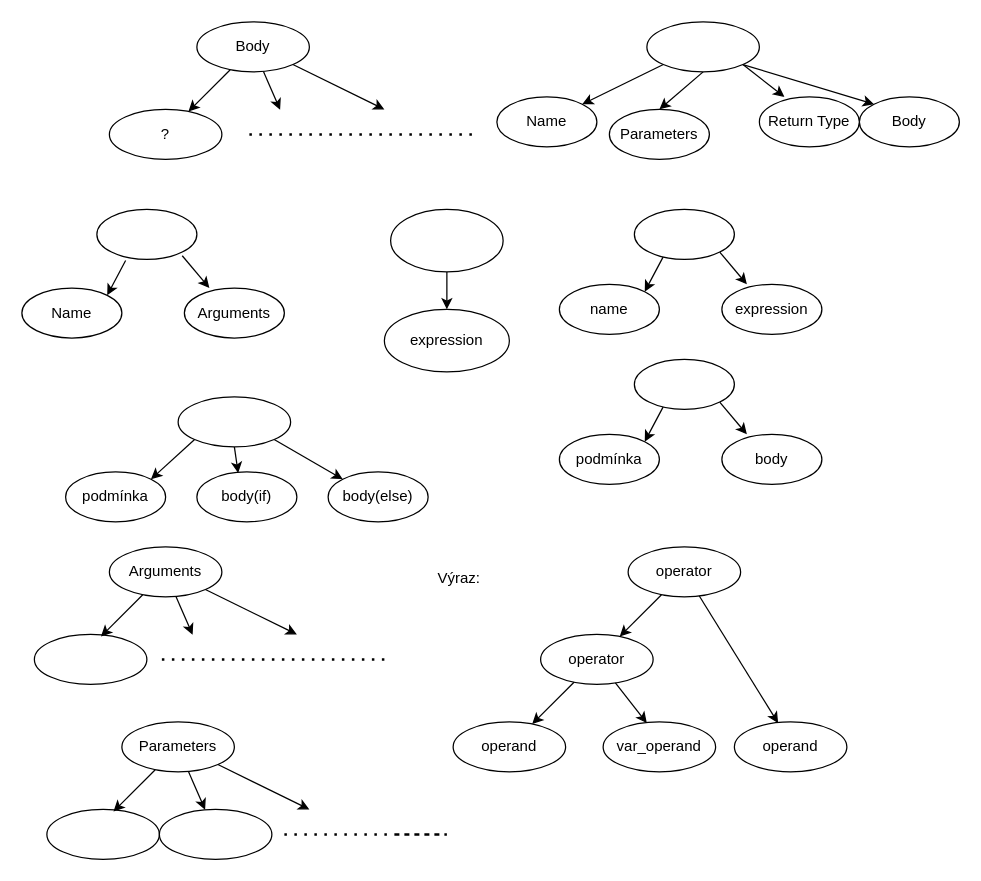
Image size: 981x881. Some labels were removed from this diagram. Each missing label, with the box of its shape:
assign / first_assign: (633, 208, 734, 259)
Function Call: (96, 208, 197, 259)
Function Declaration: (646, 21, 759, 72)
if: (177, 396, 291, 447)
int_parameter: (158, 808, 272, 859)
return: (389, 208, 503, 272)
str_parameter: (46, 808, 159, 859)
Terminál / Variable: (33, 633, 147, 684)
while(): (633, 358, 734, 409)
